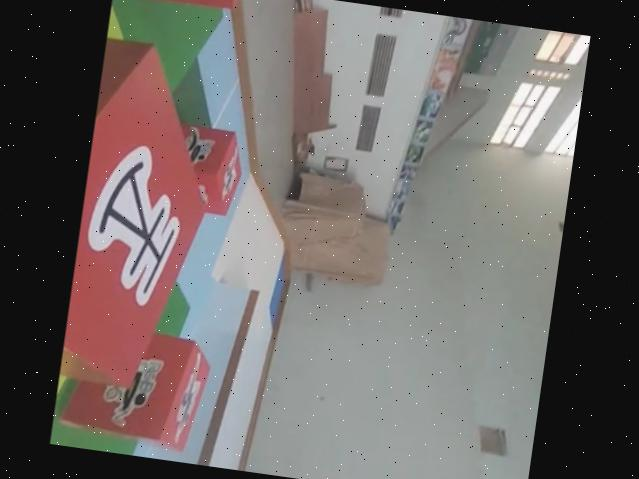R1: (50, 318, 217, 457), (158, 119, 250, 221)
R2 Real: (58, 32, 231, 399), (112, 0, 261, 14)
